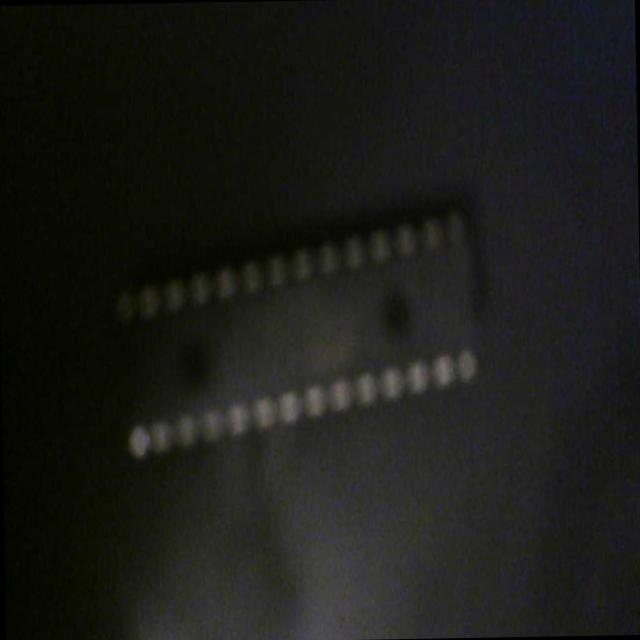atmega: (107, 182, 494, 468)
